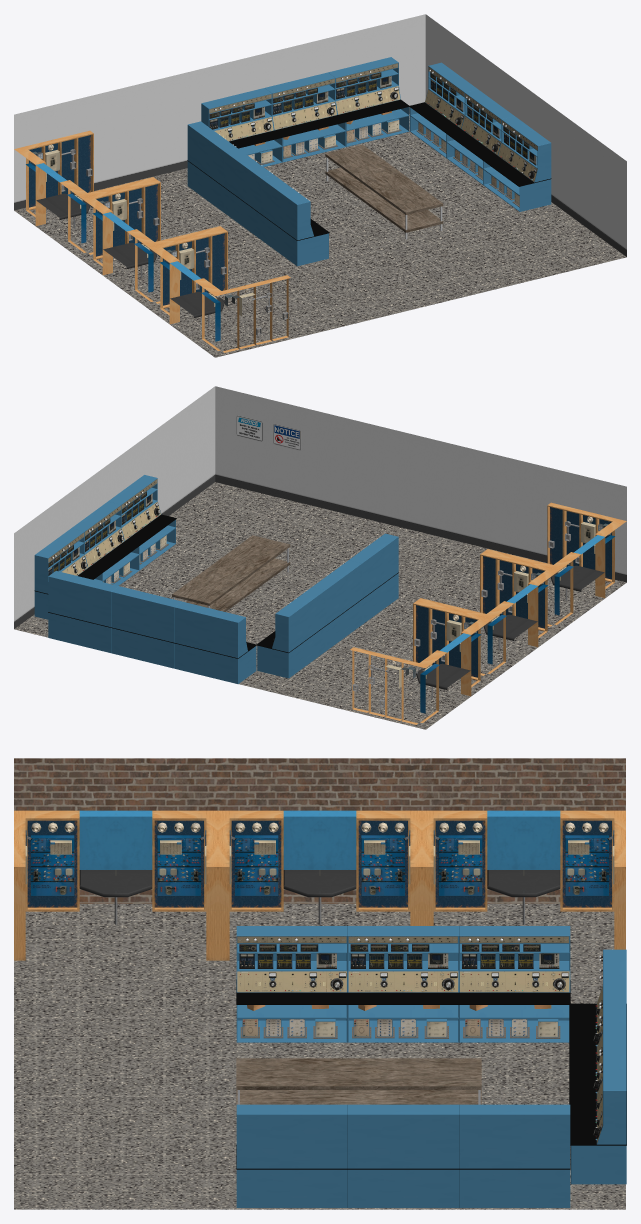
The model's file is women_in_tradesin_the_classroom_school_lab.glb.
3 views of the same model, one above another, from view 1: azimuth 30°, elevation 25°; view 2: azimuth 150°, elevation 25°; view 3: azimuth 270°, elevation 25° (orthographic). The views are drawn at different scales.
Visible parts, largest first — view 1: floor_geo_5, TestBench_Main_geo10_13, walls_geo_7, polySurface101_0, table_geo_10; view 2: walls_geo_7, floor_geo_5, TestBench_Main_geo10_13, polySurface101_0, table_geo_10; view 3: floor_geo_5, TestBench_Main_geo10_13, polySurface101_0, walls_geo_7, table_geo_10.
Boxes of the visible parts, x1,y1,x2,y2 form: floor_geo_5: (14,114,626,357); TestBench_Main_geo10_13: (187,57,551,266); walls_geo_7: (14,14,626,256); polySurface101_0: (14,130,290,352); table_geo_10: (325,144,443,239); walls_geo_7: (14,386,626,628); floor_geo_5: (14,482,626,729); TestBench_Main_geo10_13: (34,475,398,683); polySurface101_0: (350,502,626,724); table_geo_10: (172,535,290,611); floor_geo_5: (14,904,625,1209); TestBench_Main_geo10_13: (236,926,626,1207); polySurface101_0: (14,810,625,960); walls_geo_7: (14,758,625,903); table_geo_10: (236,1058,481,1116).
Size of the model in its own units: 13 by 2.9 by 11.02.
Materials: 6 (6 with a texture image).
